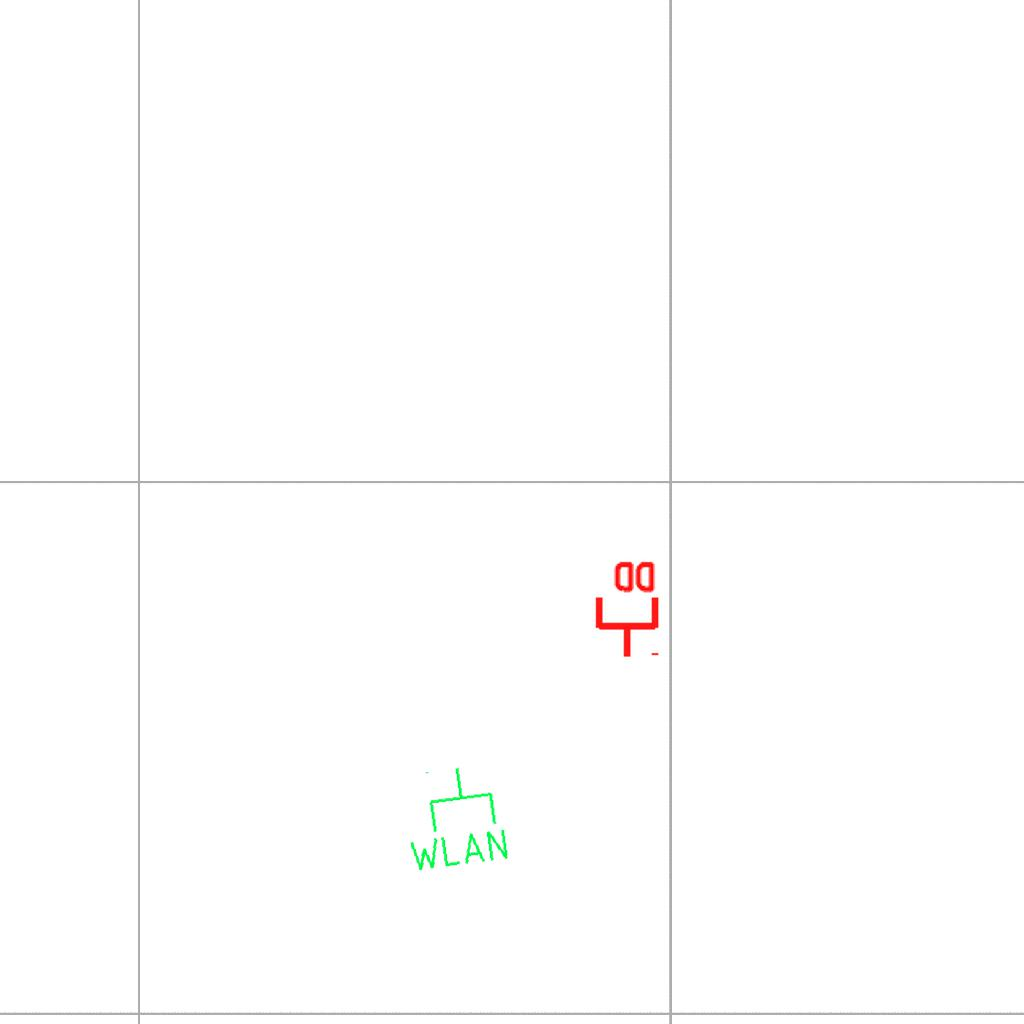Datenanschluss_zweifach: (591, 557, 660, 660)
WLAN: (394, 758, 514, 877)
